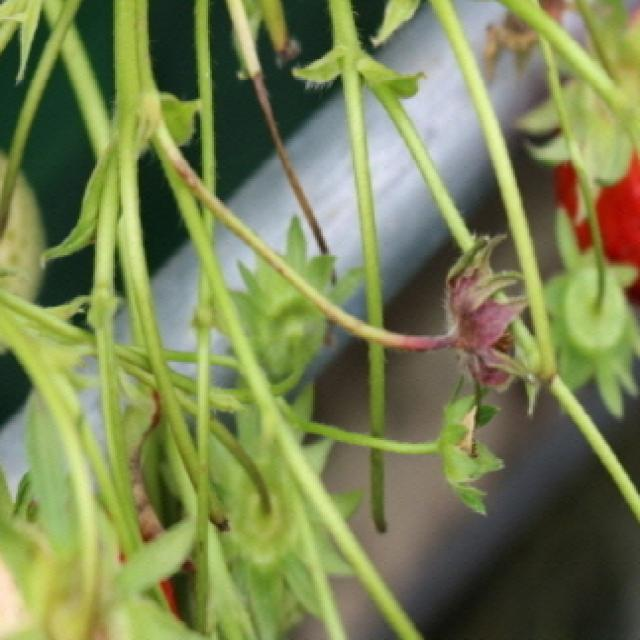Gray Mold: (406, 231, 534, 390)
